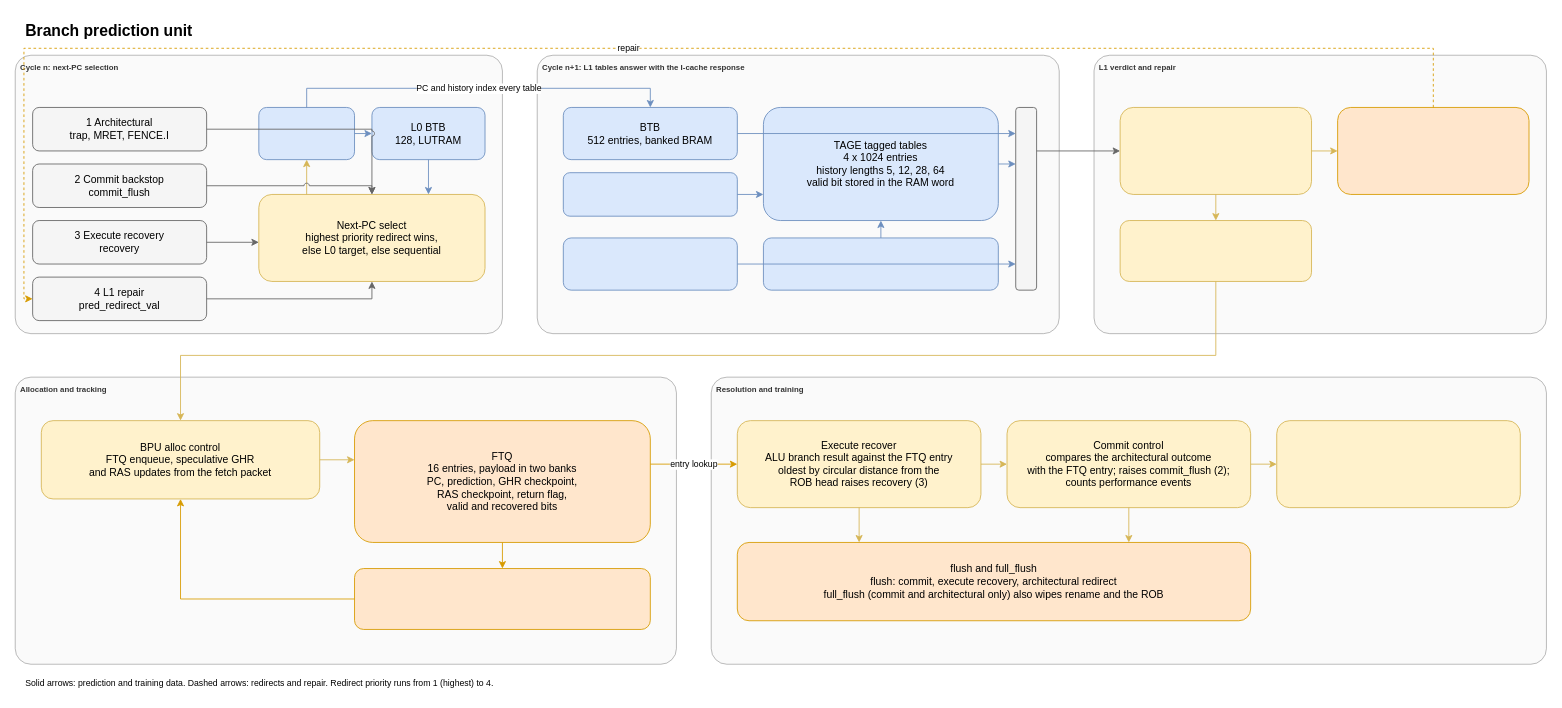
Image size: 1562x708. Some labels were removed from this diagram. Here are the shapes that lost their labels. From the top down, the centre of each, then its label:
[306,133]: Fetch PC aligned group
[1215,150]: L1 verdict agrees with L0: continue differs: hold one cycle
[1433,150]: Repair pred_hold, registered redirect one-cycle transaction
[649,194]: TAGE base 512 bimodal
[649,263]: RAS 16 entries, speculative top
[880,263]: Global history 64 bits, speculative + retained
[1215,250]: Prediction metadata provider, alternate, strength
[1398,464]: Training writes BTB, TAGE and L0 BTB at commit only, never at execute
[502,598]: Return-pending flag registered; selects RAS bypass
